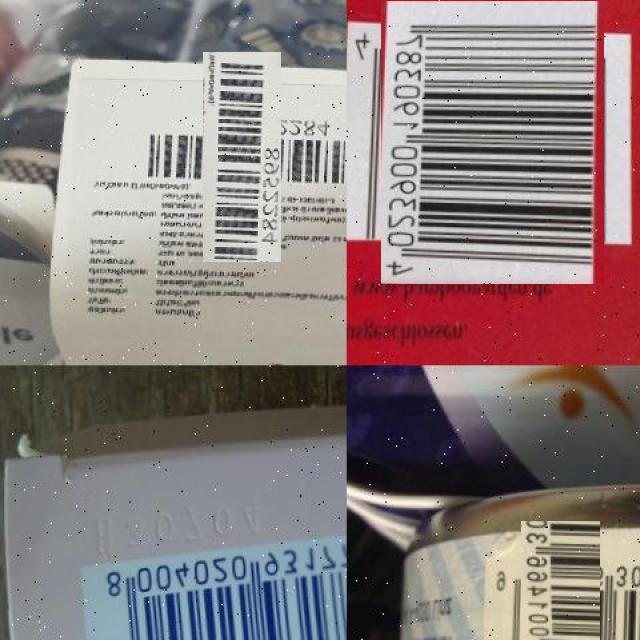Barcode: (364, 11, 620, 268), (77, 523, 347, 640), (170, 84, 314, 229), (502, 542, 620, 640)
